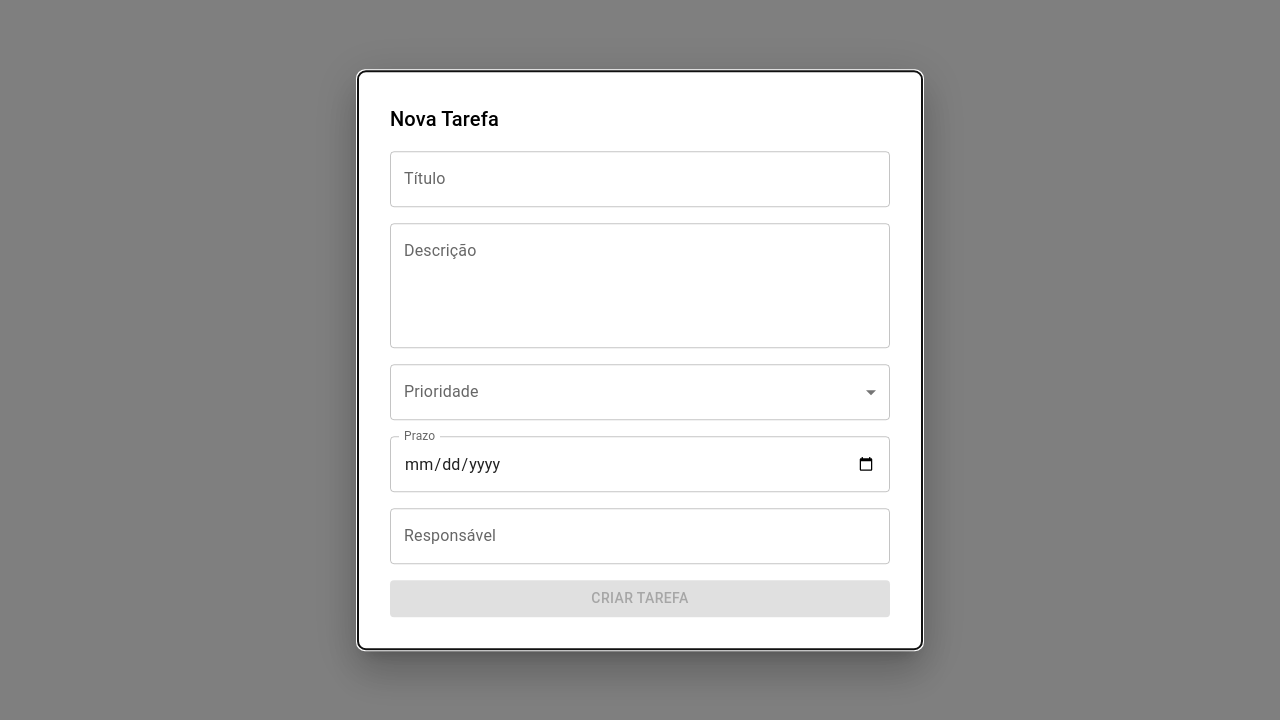
Test case: TaskModal Component › updates input fields and validates the form
The width and height of the screenshot is (1280, 720).
Type "New Task" into the field labelled "Título" at [640, 179], box x1=390 y1=151 x2=890 y2=207
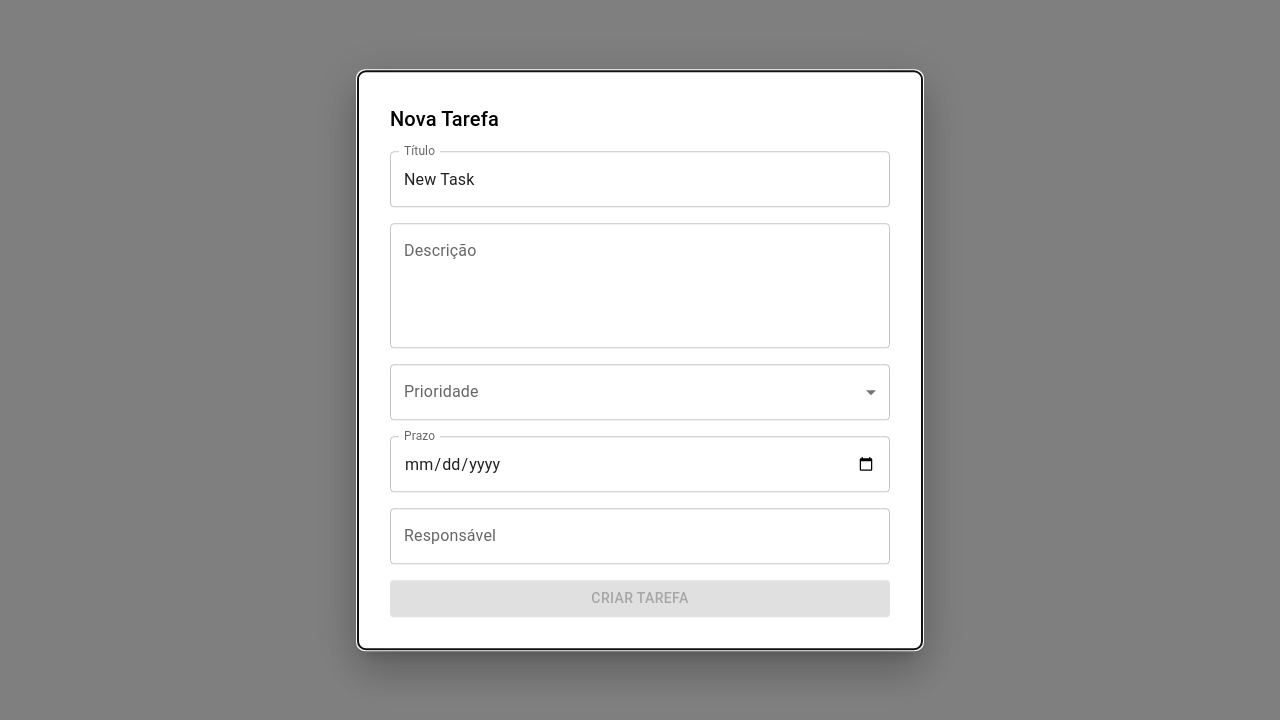
Type "Task Description" into the text box labelled "Descrição" at [640, 286], box x1=404 y1=240 x2=876 y2=332
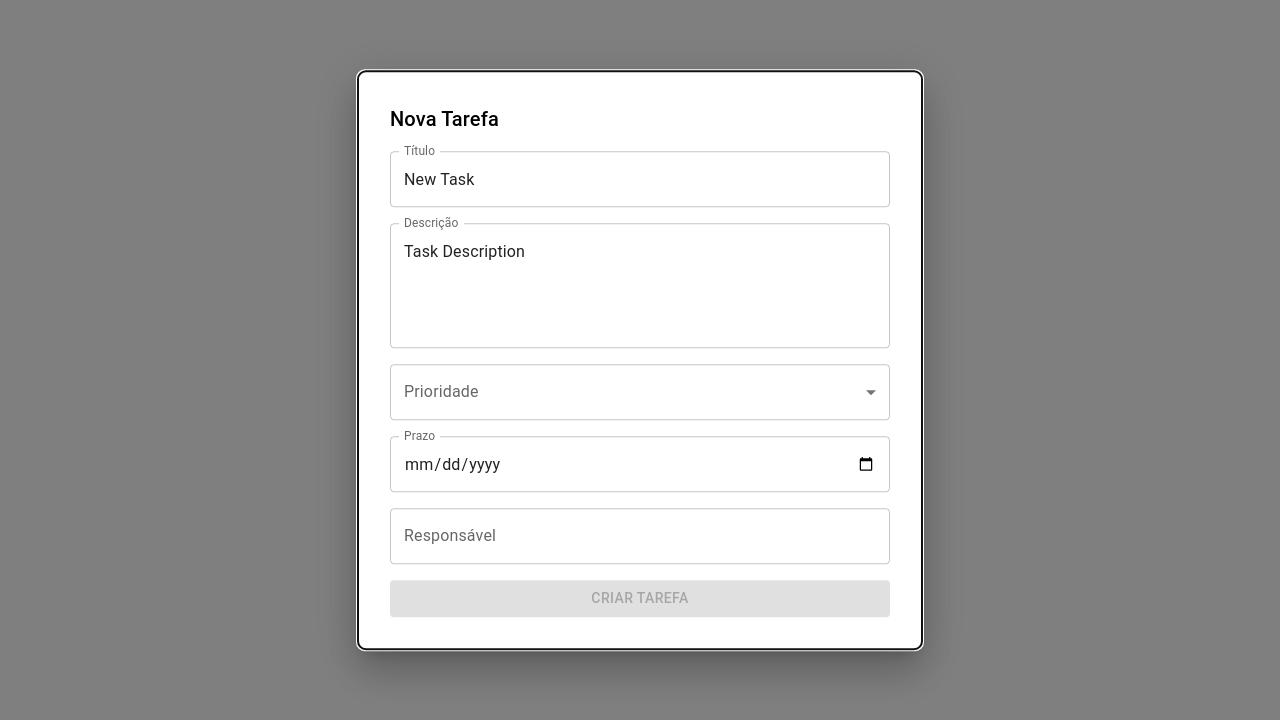
Type "2025-01-20" into the date field labelled "Prazo" at [640, 464], box x1=390 y1=436 x2=890 y2=492
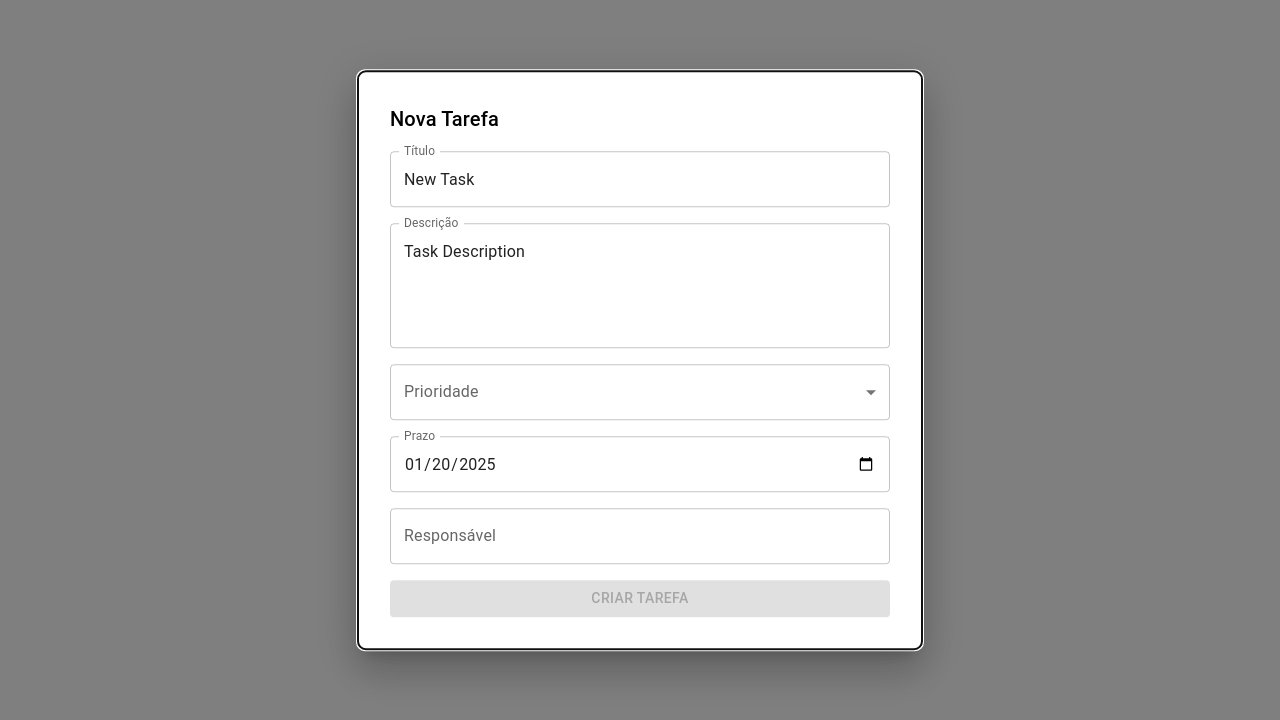
Type "John Doe" into the field labelled "Responsável" at [640, 536], box x1=390 y1=508 x2=890 y2=564
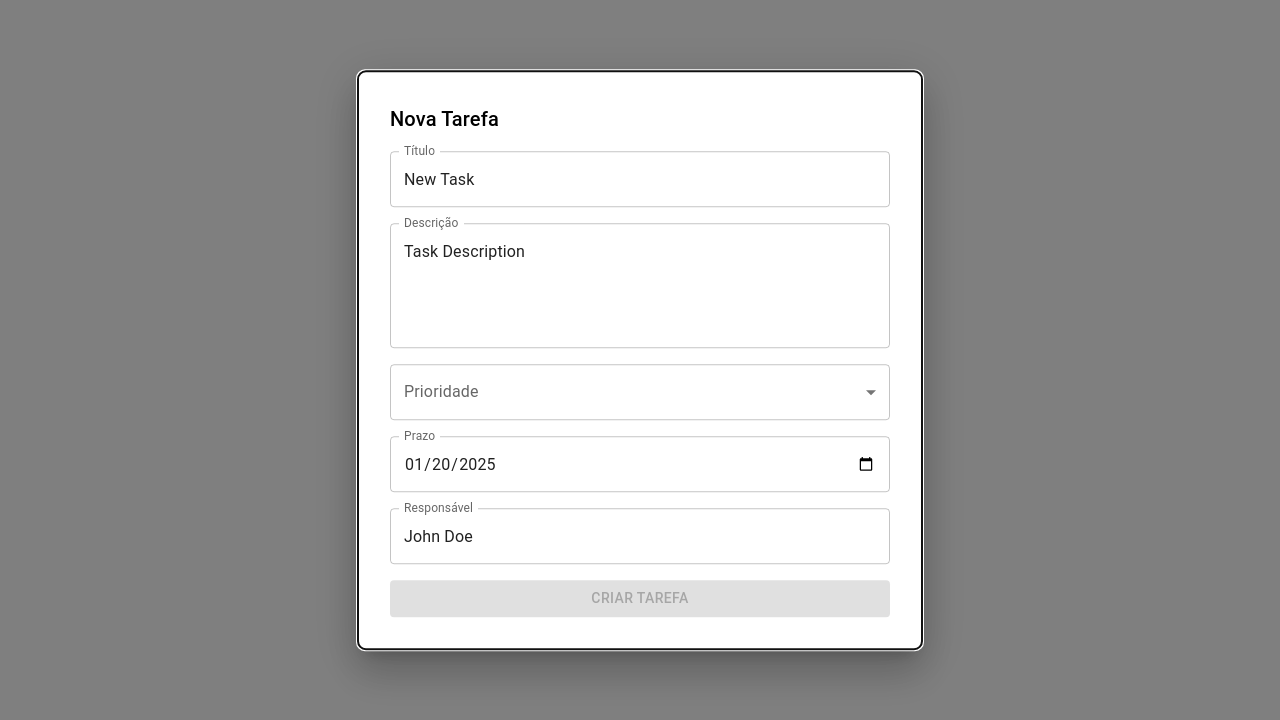
Press the mouse on the dropdown named "Prioridade" at [640, 392], box x1=390 y1=364 x2=890 y2=420
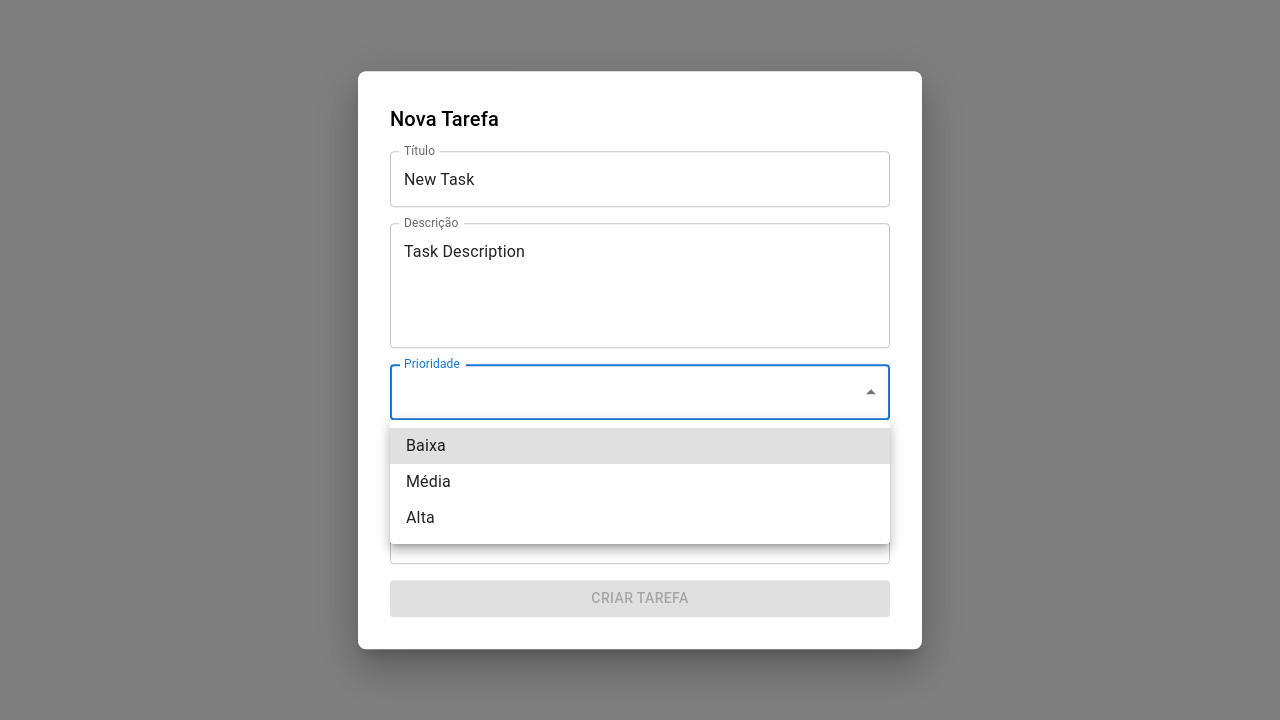
Click the option "Alta" at [420, 518], box x1=406 y1=508 x2=435 y2=527
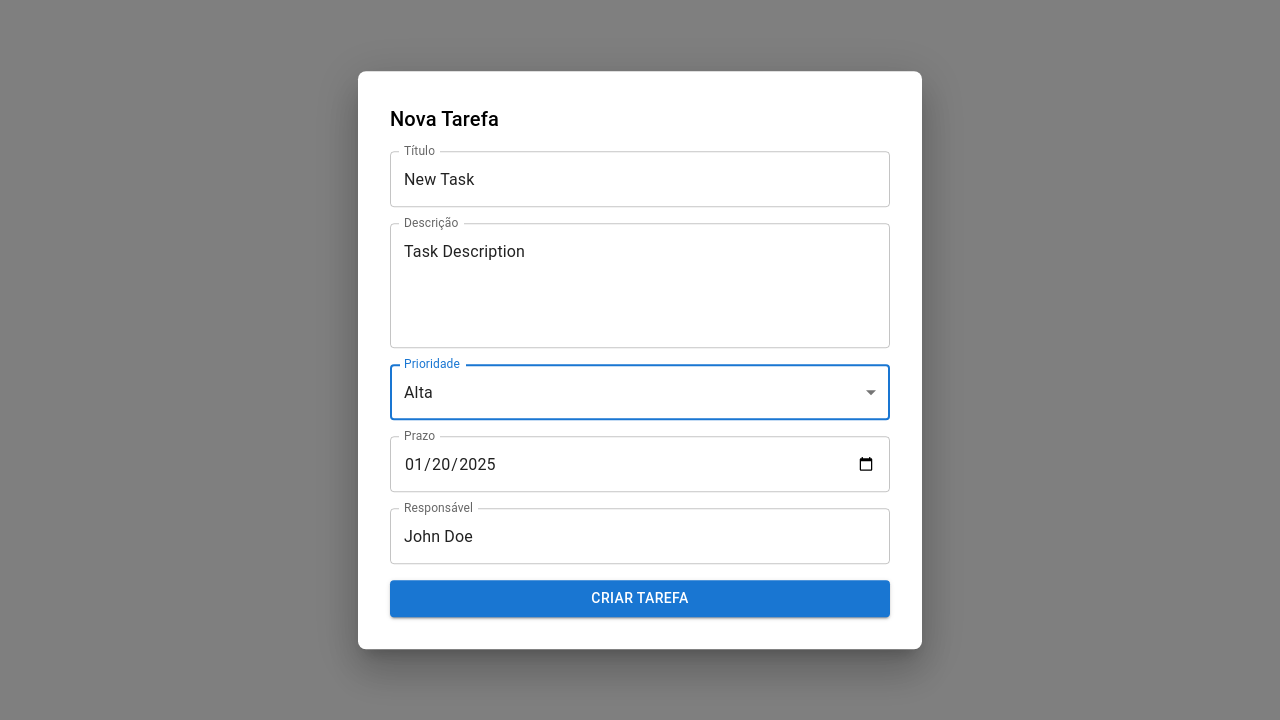
Expected: the dropdown named "Prioridade" reads "Alta", x1=404 y1=383 x2=433 y2=402
Expected: the button "Criar Tarefa" is enabled, x1=390 y1=580 x2=890 y2=617
